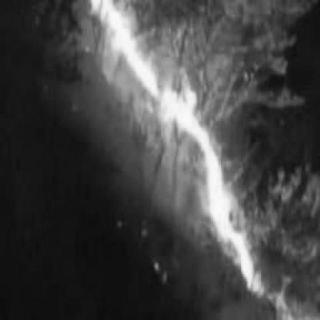Fire: (86, 0, 291, 314)
